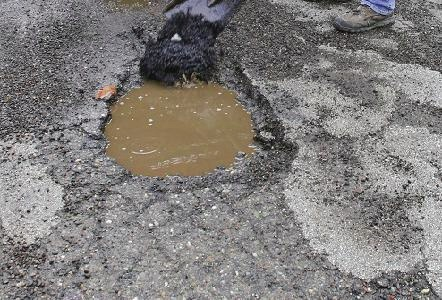pothole: (93, 50, 298, 200)
